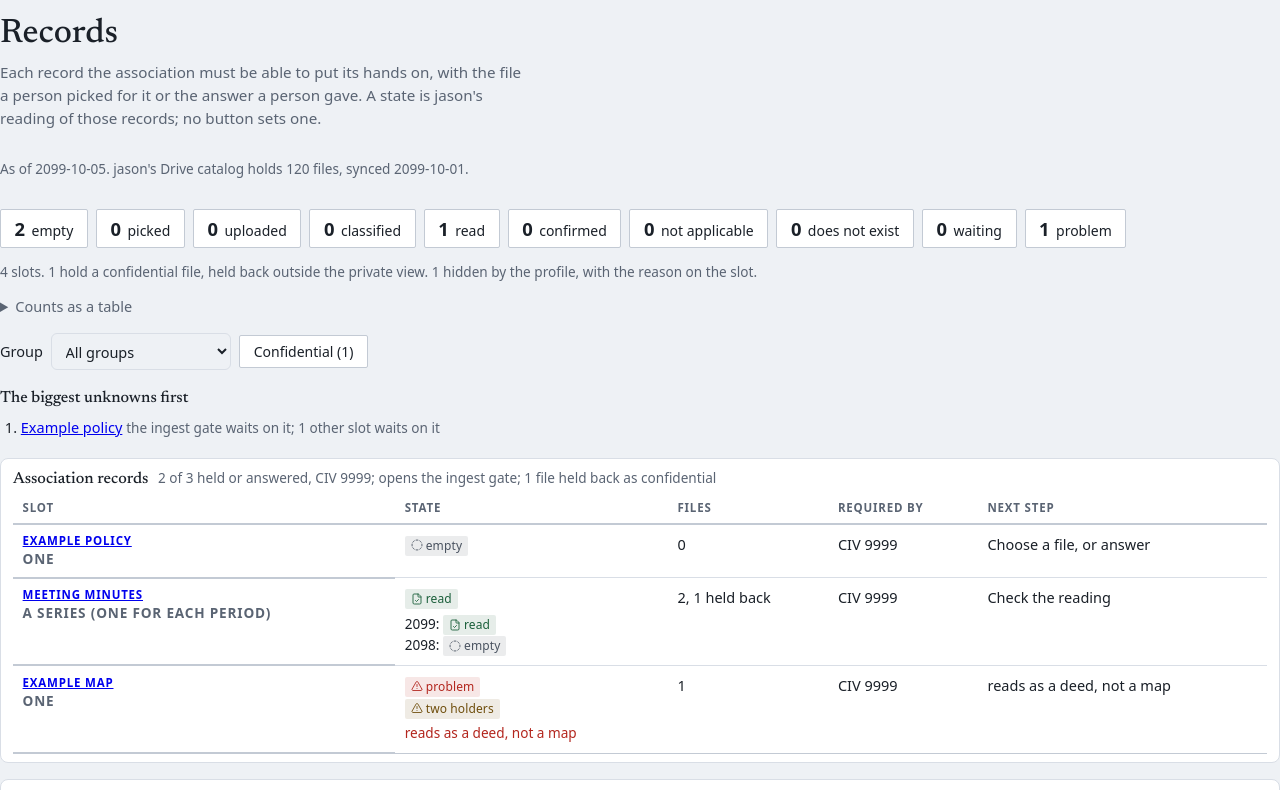
Scenario: the checklist › filters to the confidential slots and puts the whole list back
This screenshot has width=1280, height=790.
Click the button "Confidential (1)".
click(304, 352)  # box [239,335,368,368]
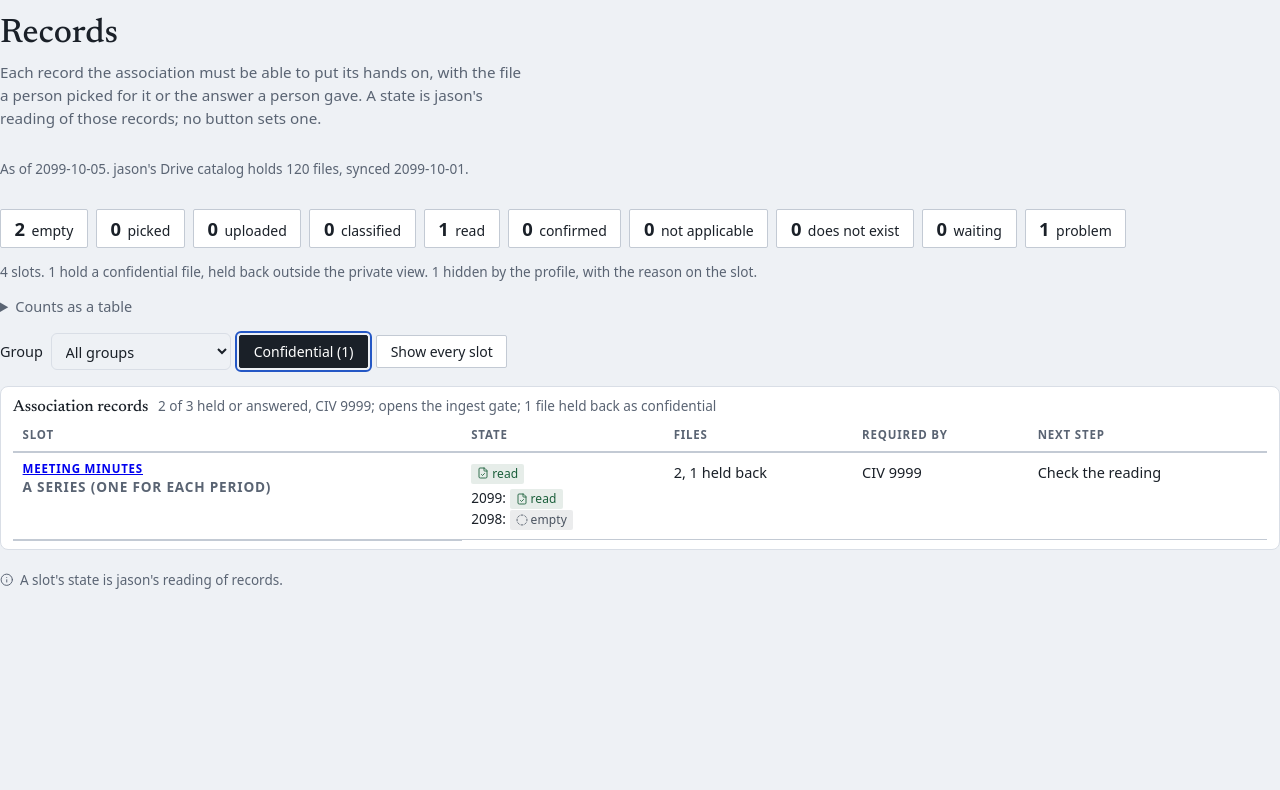
Expected: the table named "Association records: 1 slots, by state" is shown, [13,419,1267,541]
Expected: the link "Example map" is gone
Click the button "Show every slot".
click(442, 352)  # box [376,335,507,368]
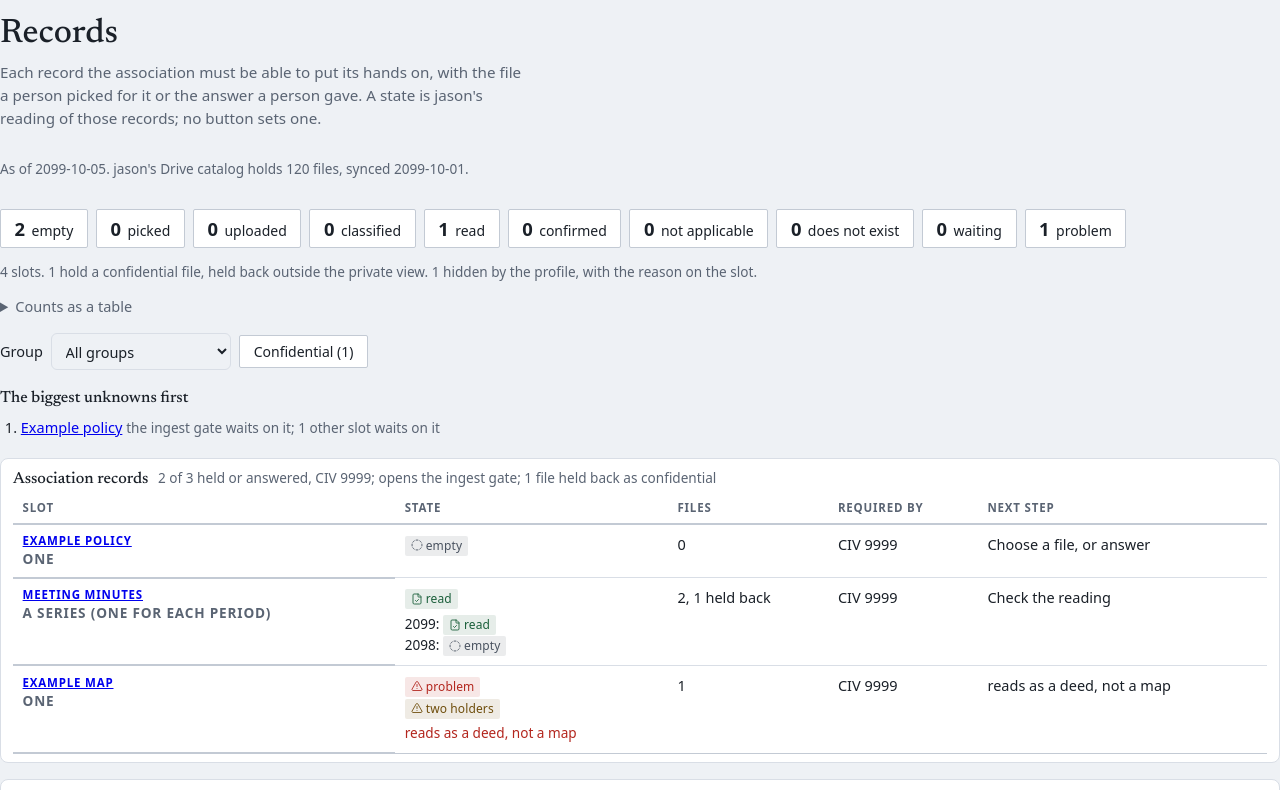
Expected: the link "Example map" is shown, [23,674,114,690]
